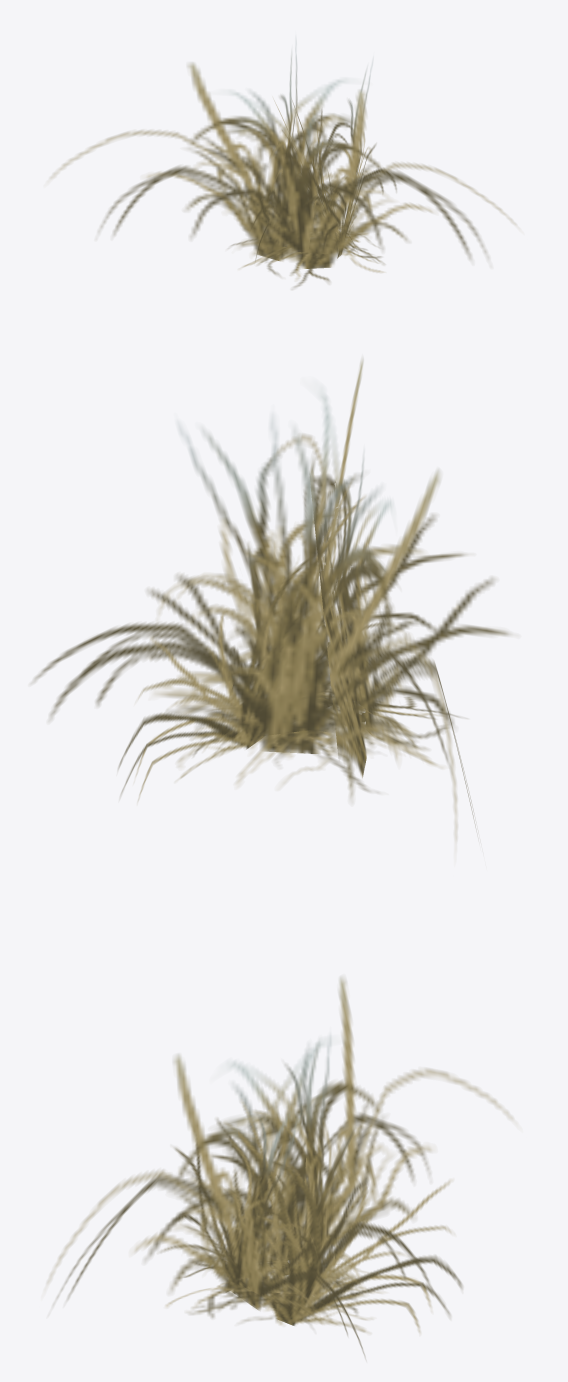
The model's file is ichu_02_nieve.glb.
3 renders of one model, top to bottom at view 1: azimuth 30°, elevation 25°; view 2: azimuth 150°, elevation 25°; view 3: azimuth 270°, elevation 25°, orthographic. The views are drawn at different scales.
Parts seen in each view (by area): view 1: Ichu; view 2: Ichu; view 3: Ichu.
Part boxes in pixels (x1=…): Ichu: x1=50, y1=39, x2=515, y2=287; Ichu: x1=33, y1=357, x2=510, y2=840; Ichu: x1=47, y1=976, x2=512, y2=1358.
Bounding box in the file's own units: 0.4765 × 0.34 × 0.5125.
1 material, 1 textured.
